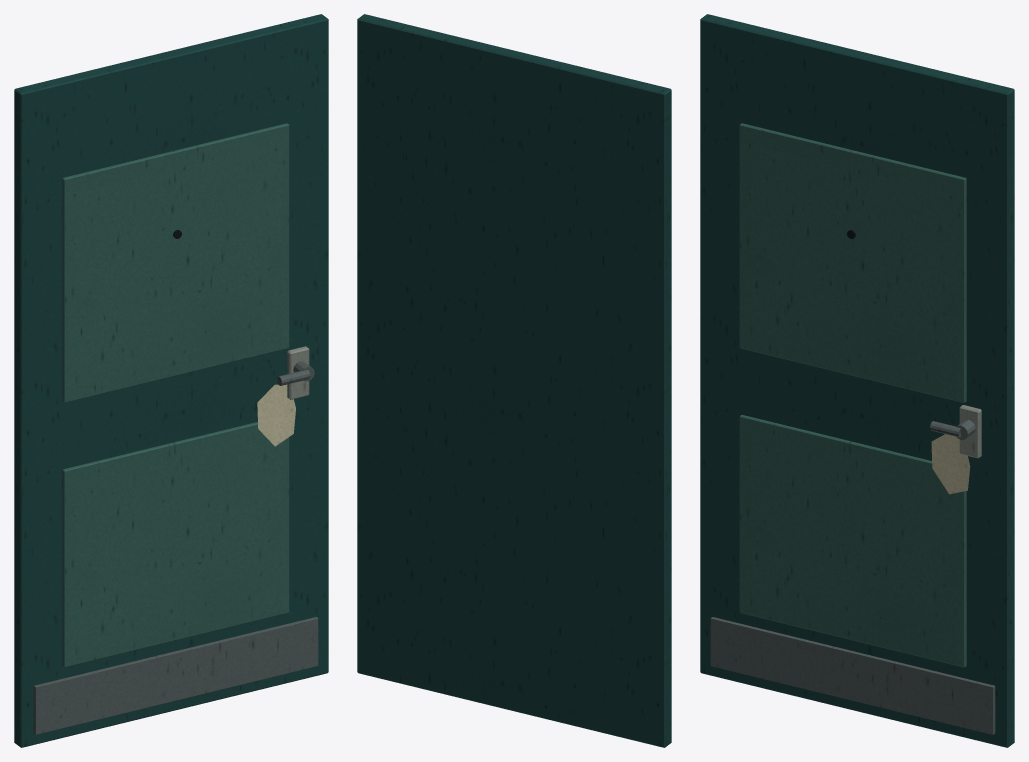
The model's file is room_door_leaf.glb.
The picture shows the model from 3 angles, left to right: view 1: azimuth 30°, elevation 25°; view 2: azimuth 150°, elevation 25°; view 3: azimuth 330°, elevation 25°; orthographic projection.
Parts seen in each view (by area): view 1: room_door_leaf; view 2: room_door_leaf; view 3: room_door_leaf.
Part boxes in pixels (x1,y1,x2,y2): room_door_leaf: (14, 14, 328, 747); room_door_leaf: (357, 14, 671, 747); room_door_leaf: (700, 14, 1014, 747).
Bounding box in the file's own units: 1.08 × 2.19 × 0.1375.
6 materials, 6 textured.
